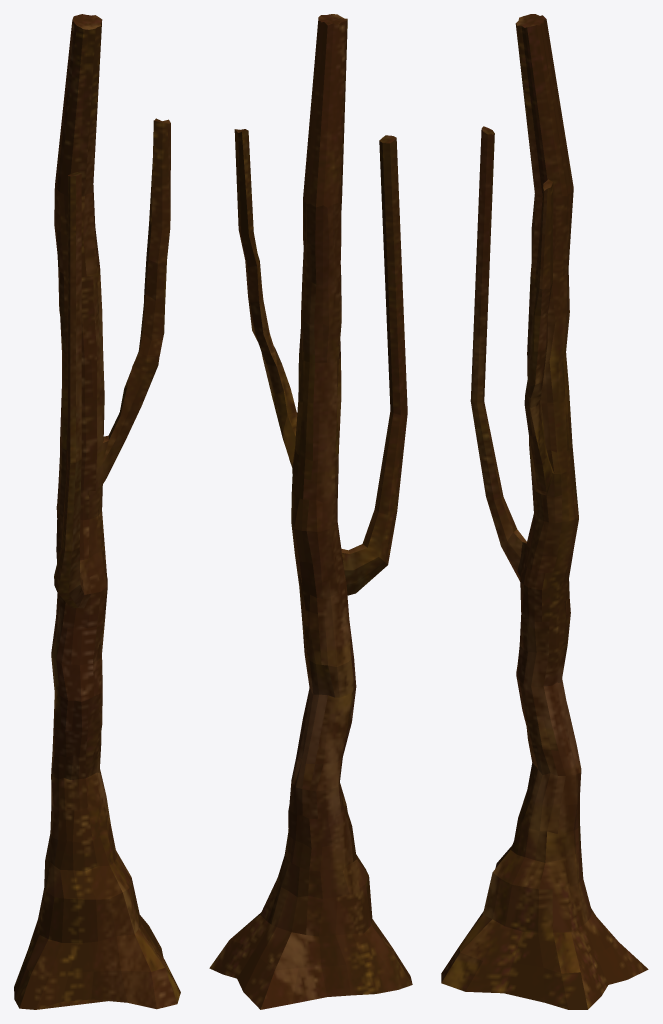
File: SM_Tree7.fbx
The picture shows the model from 3 angles, left to right: view 1: azimuth 30°, elevation 25°; view 2: azimuth 150°, elevation 25°; view 3: azimuth 270°, elevation 25°; orthographic projection. The views are drawn at different scales.
Visible parts, largest first — view 1: Cylinder.002; view 2: Cylinder.002; view 3: Cylinder.002.
Part boxes in pixels (box(x1,y1,x2,y2)): Cylinder.002: box(14, 14, 180, 1009); Cylinder.002: box(209, 14, 412, 1009); Cylinder.002: box(441, 14, 648, 1009).
Bounding box in the file's own units: 325 × 1764 × 350.
